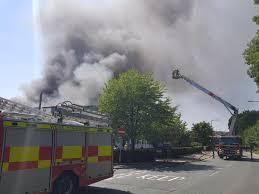smoke: (42, 38, 112, 106), (46, 3, 173, 30)
